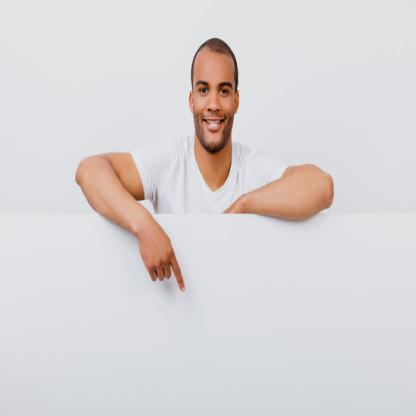Down: (132, 211, 189, 306)
